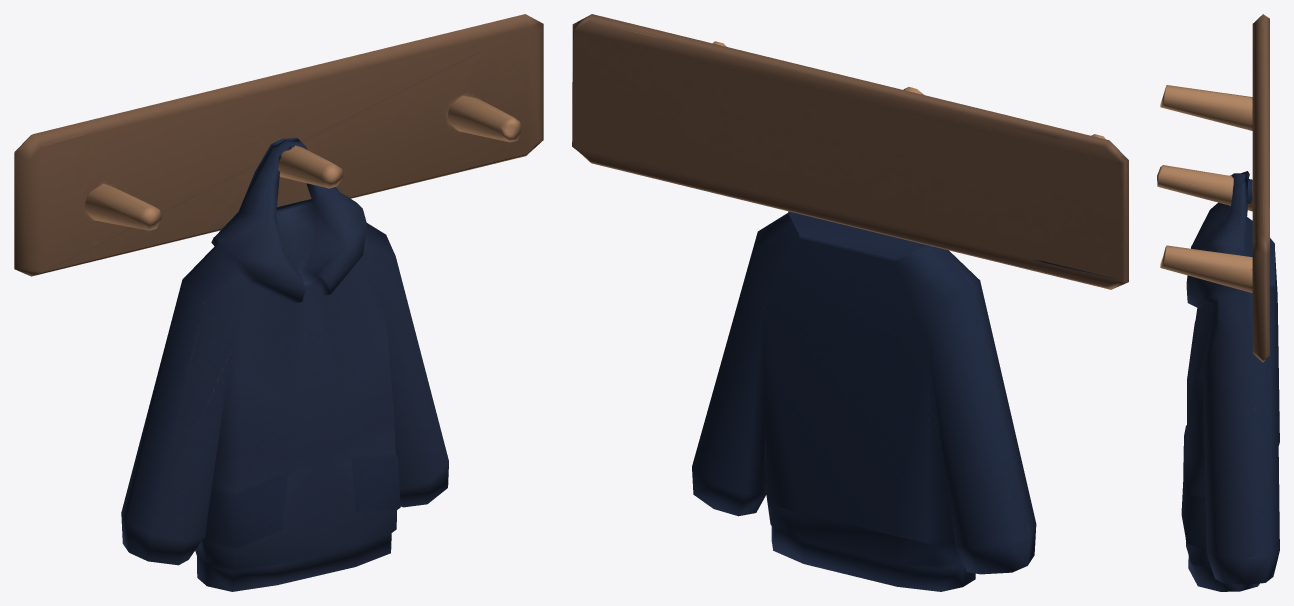
The model's file is coat_hooks.glb.
3 renders of one model, left to right at view 1: azimuth 30°, elevation 25°; view 2: azimuth 150°, elevation 25°; view 3: azimuth 270°, elevation 25°, orthographic. The views are drawn at different scales.
Size of the model in its own units: 0.9653 by 0.8223 by 0.2134.
1 material, 1 textured.
